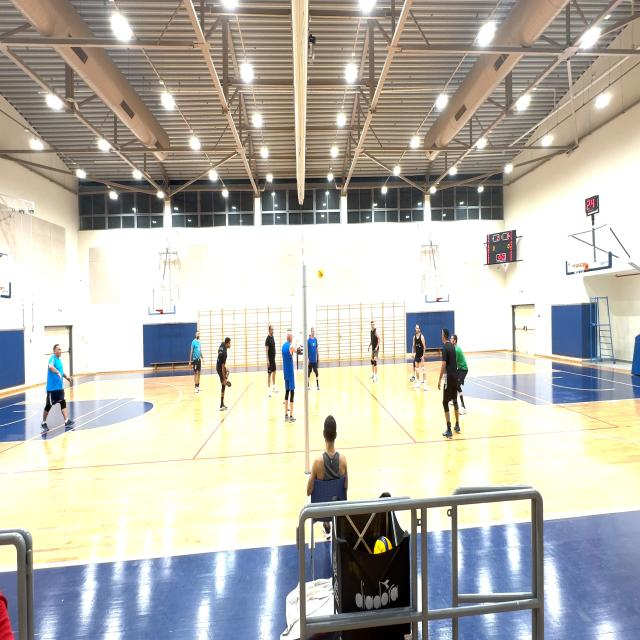volleyball: (373, 536, 392, 555), (317, 269, 323, 279)
